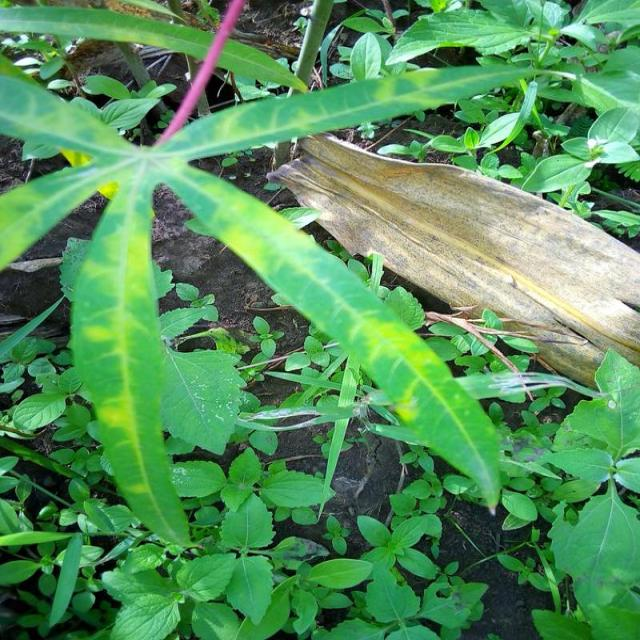cassava leaf: (2, 44, 539, 547)
